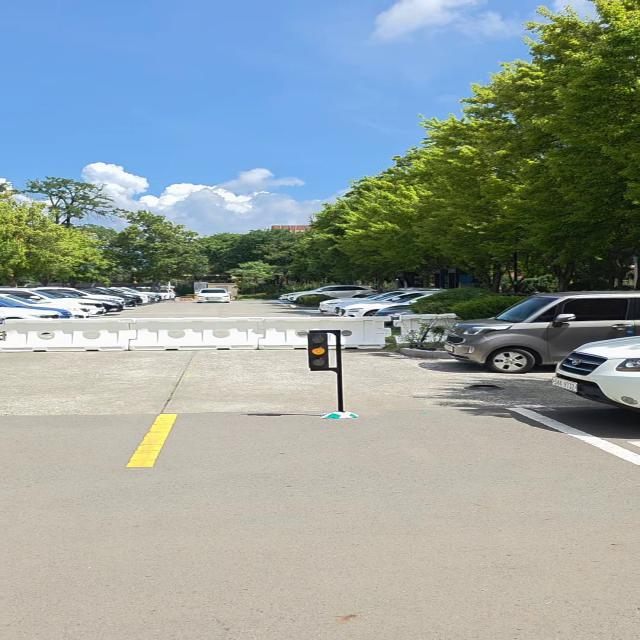yellow: (306, 332, 330, 370)
